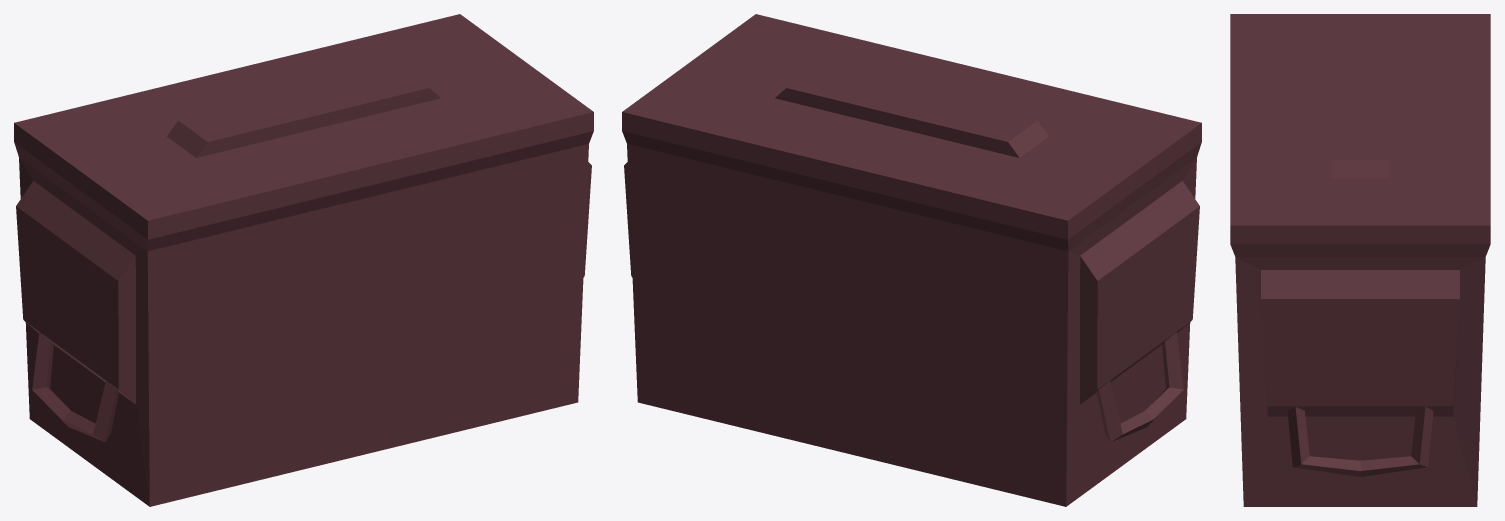
Rendered from ammo-box-bullets.fbx.
3 renders of one model, left to right at view 1: azimuth 30°, elevation 25°; view 2: azimuth 150°, elevation 25°; view 3: azimuth 270°, elevation 25°, orthographic. The views are drawn at different scales.
Visible parts, largest first — view 1: ammo-box-bullets; view 2: ammo-box-bullets; view 3: ammo-box-bullets.
Boxes of the visible parts, x1,y1,x2,y2 form: ammo-box-bullets: (14, 14, 593, 506); ammo-box-bullets: (622, 14, 1201, 506); ammo-box-bullets: (1230, 14, 1490, 506).
Bounding box in the file's own units: 0.3162 × 0.1915 × 0.1515.
